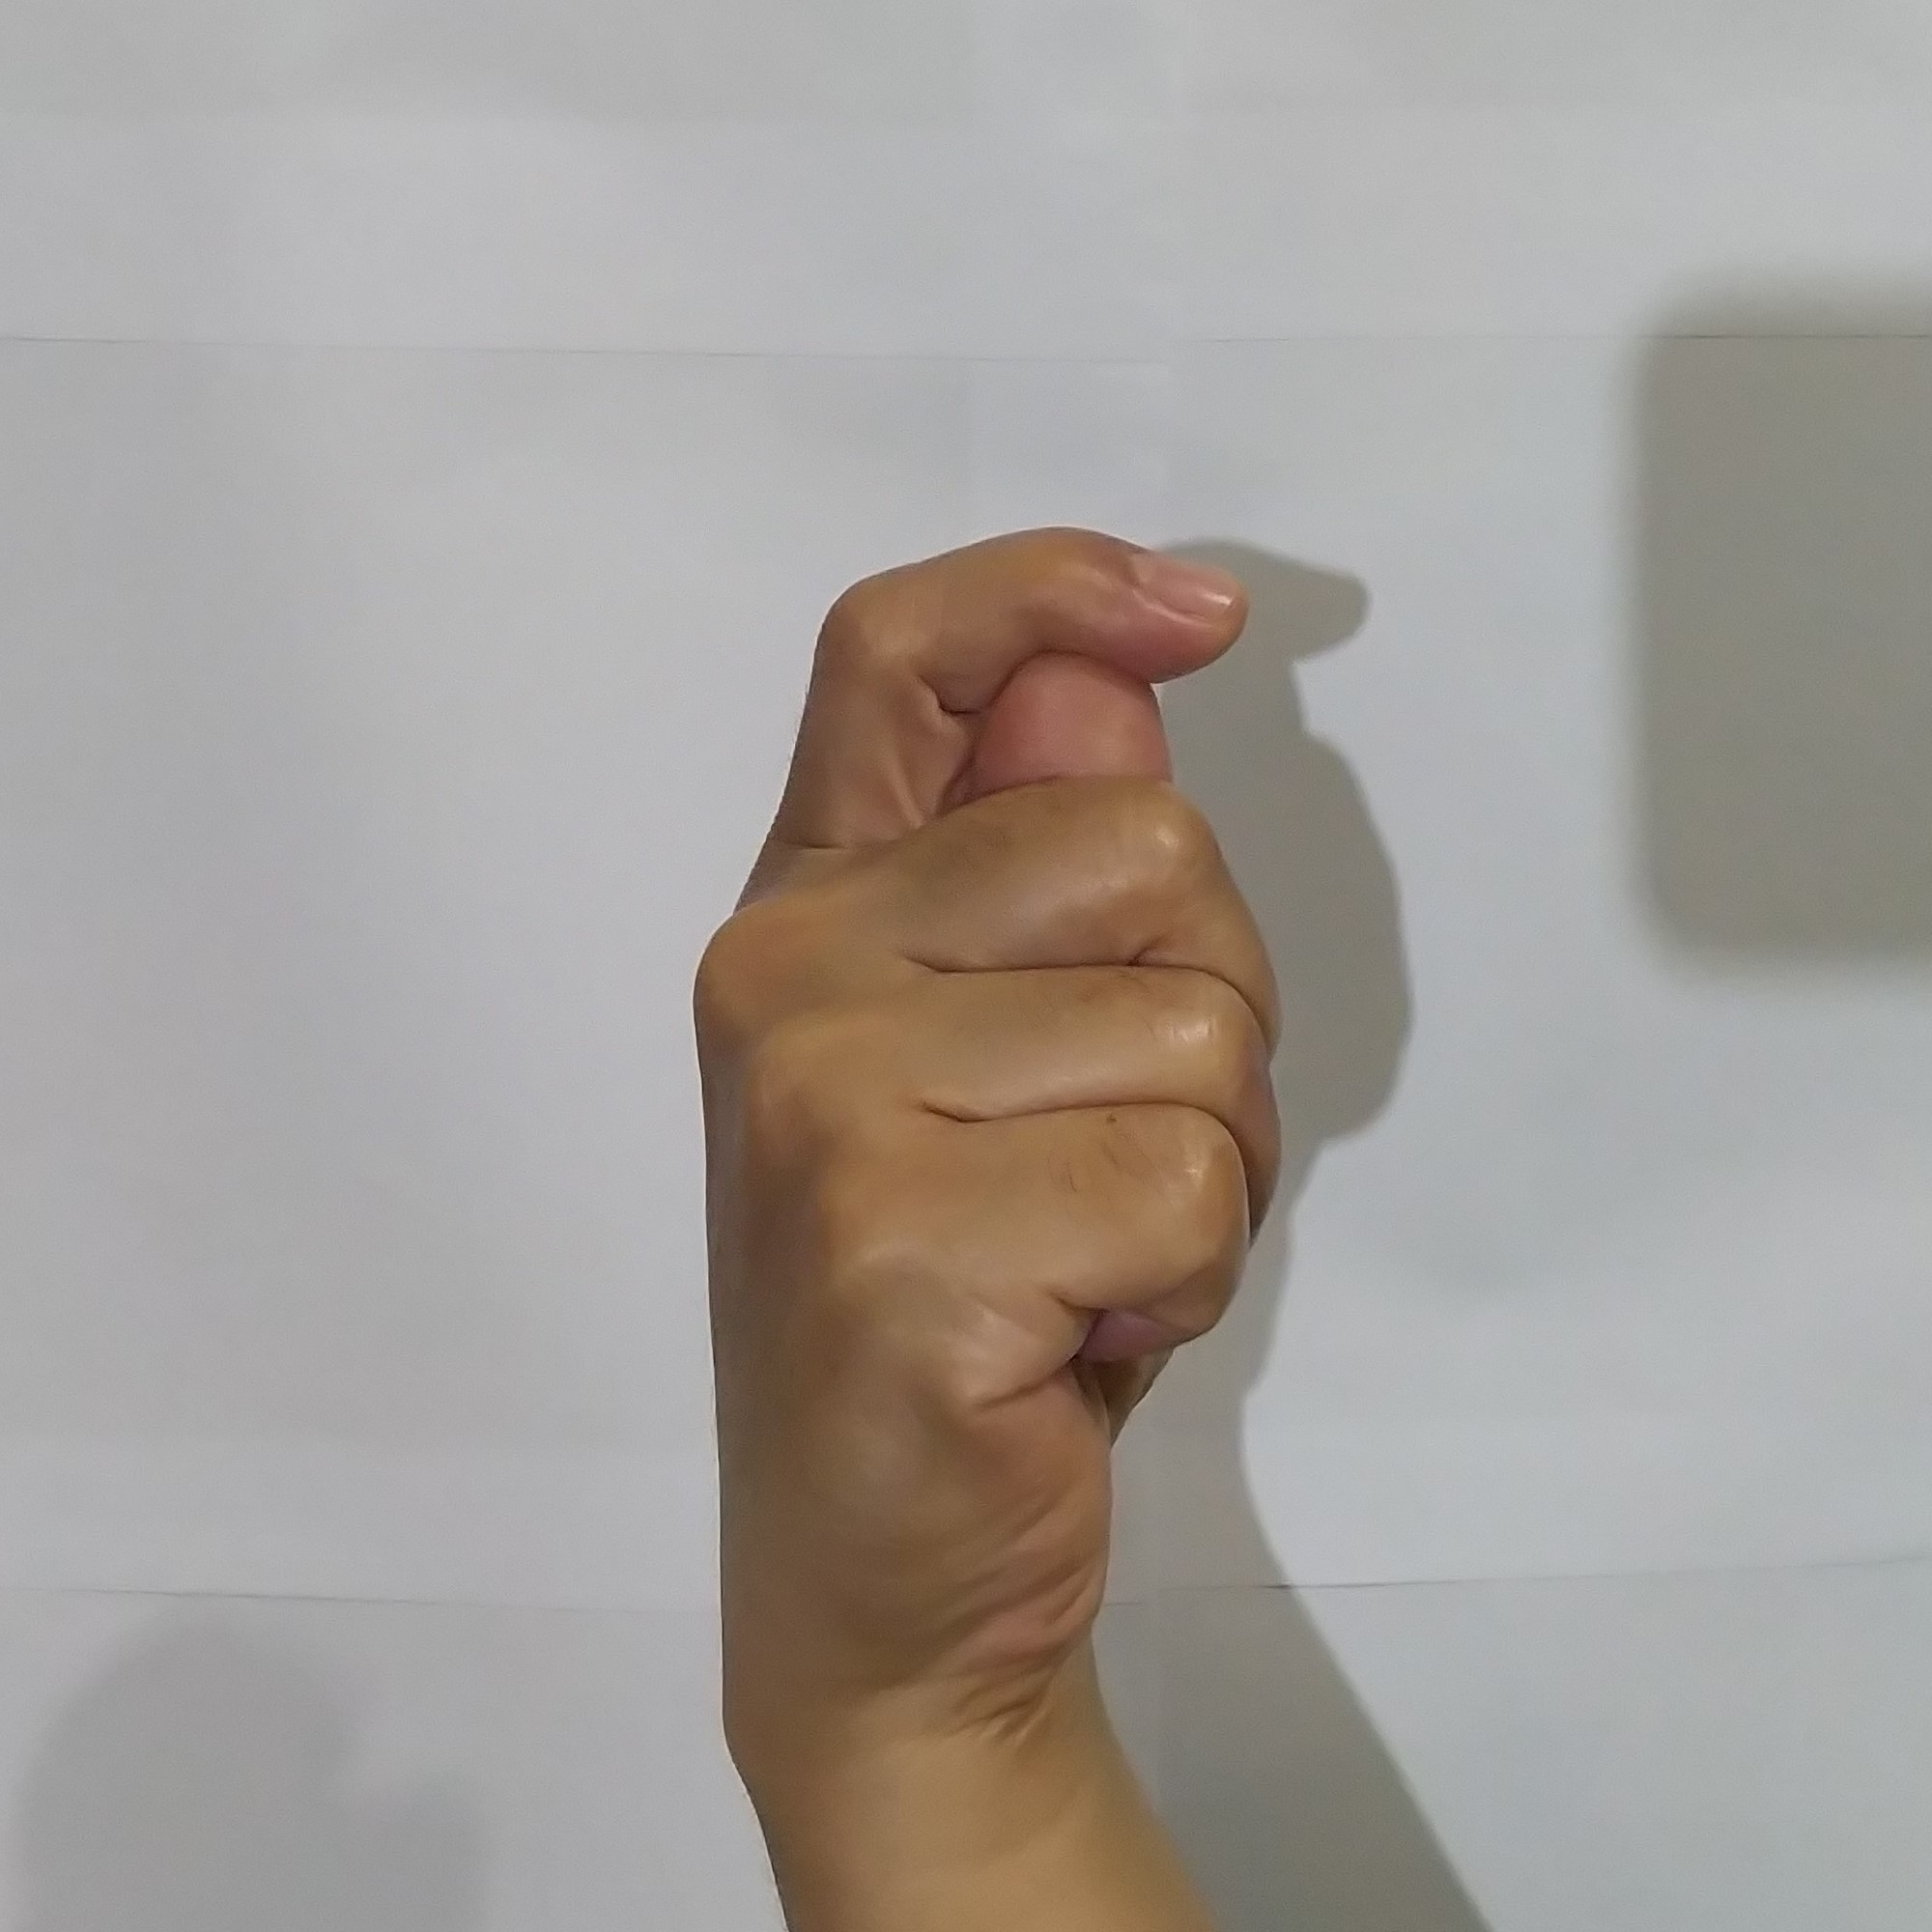T: (639, 487, 1332, 1665)
